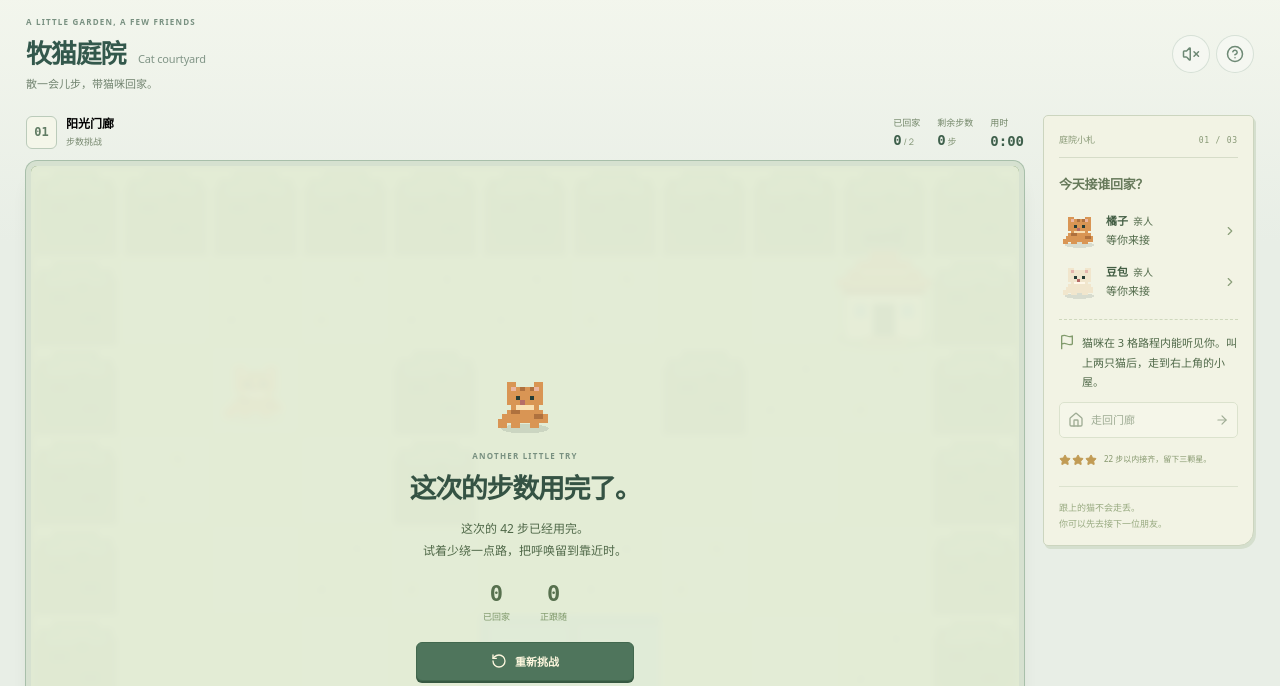
Test: courtyard controls and lifecycle › restores a failed challenge's result and restarts without carrying over its spent budget
Click the button "重新挑战".
click(525, 662)  # box [416,642,634,681]
Wait 600 ms
(page scrolled)
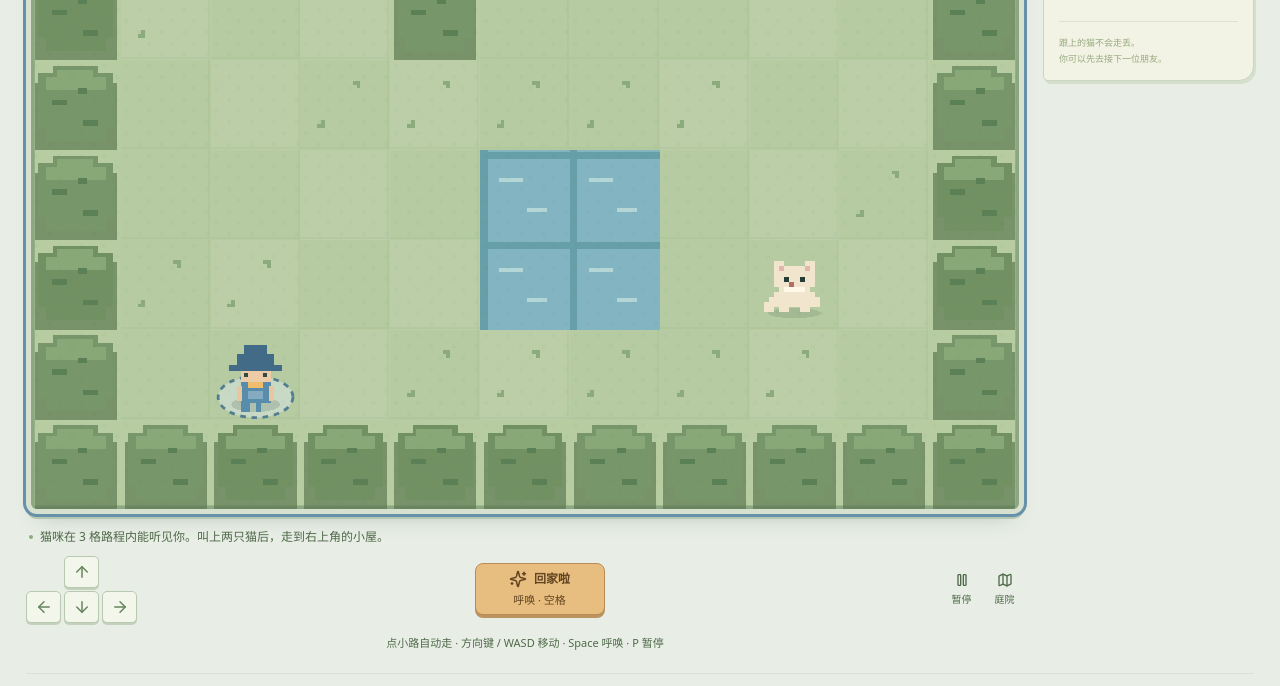
expect the button "回家啦 呼唤 · 空格" is enabled: met, box [474,563,604,615]
